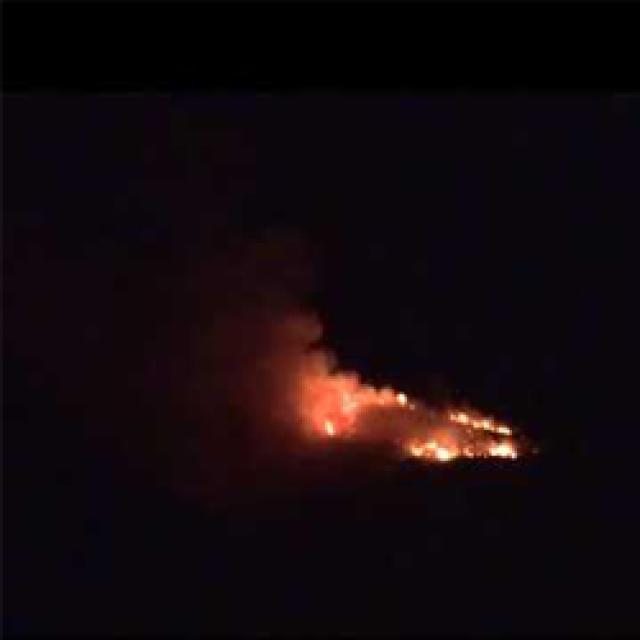Fire: (398, 412, 524, 479), (396, 384, 422, 409)
Smoke: (204, 249, 392, 486)
